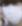with_mask: (2, 1, 22, 26)
